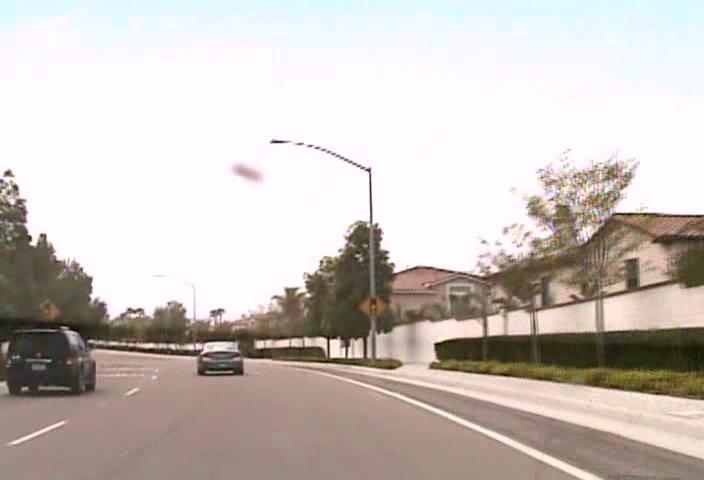signalAhead: (358, 292, 387, 320)
